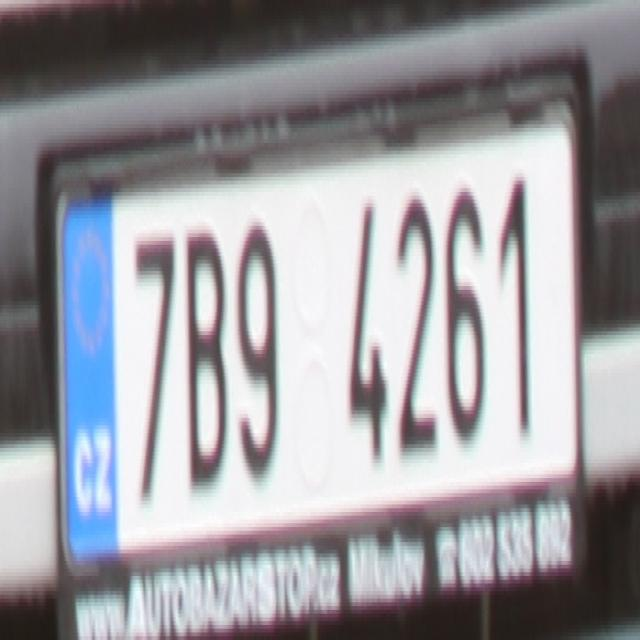1: (495, 162, 535, 437)
2: (394, 180, 438, 456)
4: (346, 188, 388, 463)
6: (444, 173, 487, 441)
7: (130, 226, 177, 493)
9: (233, 211, 281, 489)
B: (182, 218, 228, 482)
